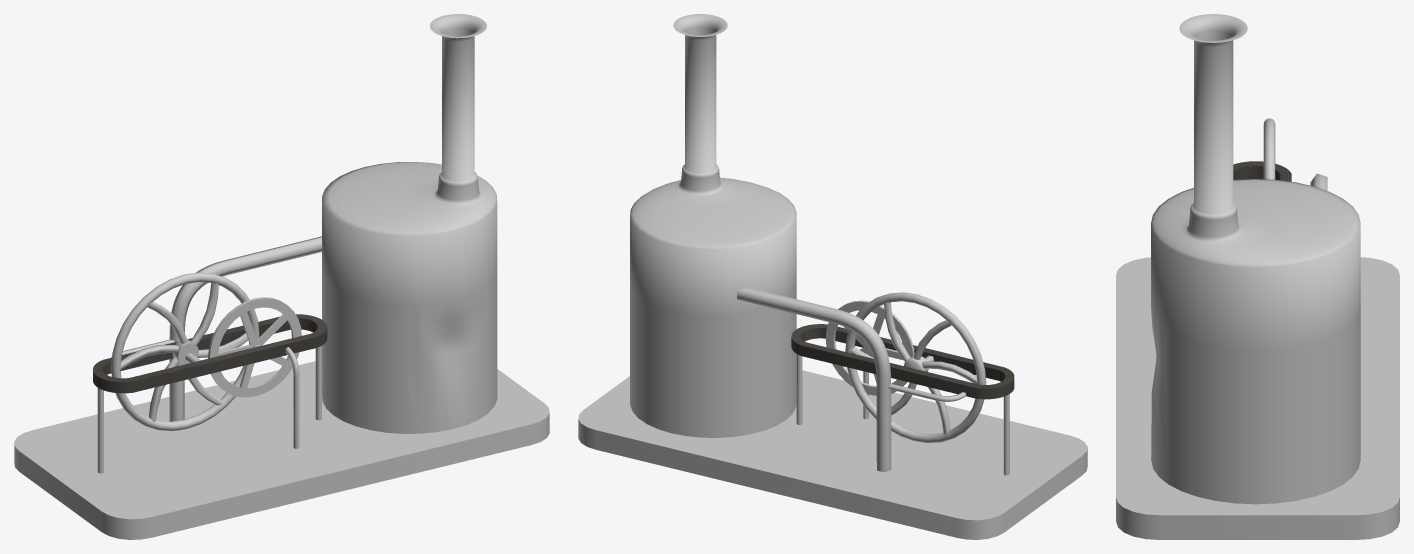
File: machine vapeur.fbx
3 views of the same model, side by side, from view 1: azimuth 30°, elevation 25°; view 2: azimuth 150°, elevation 25°; view 3: azimuth 270°, elevation 25° (orthographic). The views are drawn at different scales.
Parts seen in each view (by area): view 1: Cylinder.003, Torus, Circle; view 2: Cylinder.003, Torus, Circle; view 3: Cylinder.003, Torus.
Boxes of the visible parts, x1=… form: Cylinder.003: x1=14, y1=14, x2=549, y2=539; Torus: x1=111, y1=272, x2=259, y2=430; Circle: x1=208, y1=297, x2=301, y2=397; Cylinder.003: x1=578, y1=14, x2=1087, y2=539; Torus: x1=845, y1=292, x2=986, y2=443; Circle: x1=825, y1=300, x2=914, y2=395; Cylinder.003: x1=1116, y1=14, x2=1399, y2=539; Torus: x1=1263, y1=118, x2=1275, y2=179.
Size of the model in its own units: 164 by 141 by 76.24.
